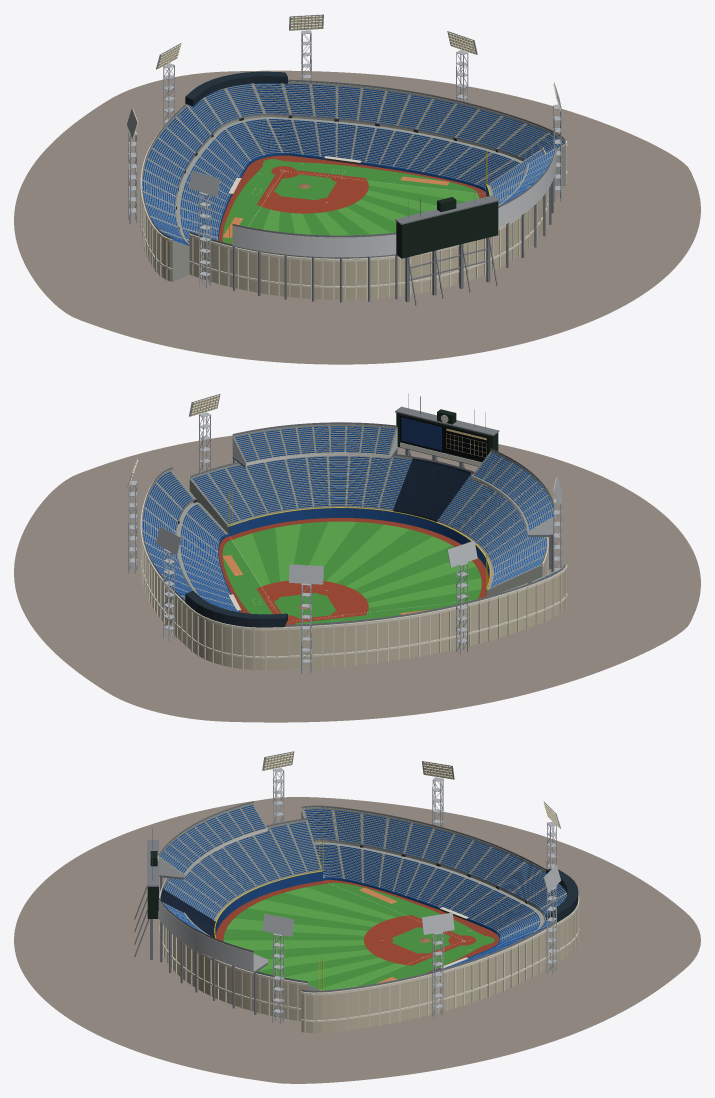
File: yokohama.obj
3 renders of one model, top to bottom at view 1: azimuth 30°, elevation 25°; view 2: azimuth 150°, elevation 25°; view 3: azimuth 270°, elevation 25°, orthographic. The views are drawn at different scales.
Visible parts, largest first — view 1: ground_apron, stand_first, stand_backstop, outer_wall_outfield, stand_third, turf_base, scoreboard, light_towers, stand_outfield_left, facade_fins, stand_outfield_right, turf_stripes (+9 smaller); view 2: ground_apron, stand_outfield_right, outer_wall_infield, stand_outfield_left, turf_base, turf_stripes, stand_first, light_towers, facade_fins, scoreboard, backscreen, fence_outfield (+6 smaller); view 3: ground_apron, stand_third, stand_outfield_left, turf_base, outer_wall_infield, turf_stripes, light_towers, stand_backstop, facade_fins, outer_wall_outfield, stand_outfield_right, stand_rails (+10 smaller).
Boxes of the visible parts, box(x1,y1,x2,y2) form: ground_apron: box(14, 70, 700, 364); stand_first: box(310, 87, 566, 188); stand_backstop: box(156, 81, 369, 172); outer_wall_outfield: box(189, 193, 545, 299); stand_third: box(141, 138, 242, 281); turf_base: box(222, 159, 477, 244); scoreboard: box(395, 166, 526, 305); light_towers: box(127, 14, 562, 288); stand_outfield_left: box(190, 226, 397, 302); facade_fins: box(140, 142, 566, 300); stand_outfield_right: box(487, 147, 556, 267); turf_stripes: box(263, 181, 479, 235); ground_apron: box(14, 435, 700, 722); stand_outfield_right: box(189, 424, 412, 533); outer_wall_infield: box(141, 530, 566, 670); stand_outfield_left: box(437, 450, 556, 596); turf_base: box(222, 521, 480, 624); turf_stripes: box(232, 521, 481, 607); stand_first: box(141, 469, 239, 612); light_towers: box(127, 394, 562, 674); facade_fins: box(140, 482, 566, 670); scoreboard: box(248, 393, 526, 531); backscreen: box(393, 458, 470, 521); fence_outfield: box(229, 507, 490, 596); ground_apron: box(14, 797, 700, 1083); stand_third: box(301, 807, 507, 922); stand_outfield_left: box(159, 803, 322, 921); turf_base: box(223, 882, 494, 989); outer_wall_infield: box(301, 910, 577, 1033); turf_stripes: box(223, 887, 405, 990); light_towers: box(262, 751, 560, 1024); stand_backstop: box(477, 850, 578, 954); facade_fins: box(159, 882, 579, 1033); outer_wall_outfield: box(162, 924, 307, 1021); stand_outfield_right: box(158, 899, 320, 1014); stand_rails: box(159, 801, 555, 992).
Size of the model in its own units: 321 by 54.75 by 324.
